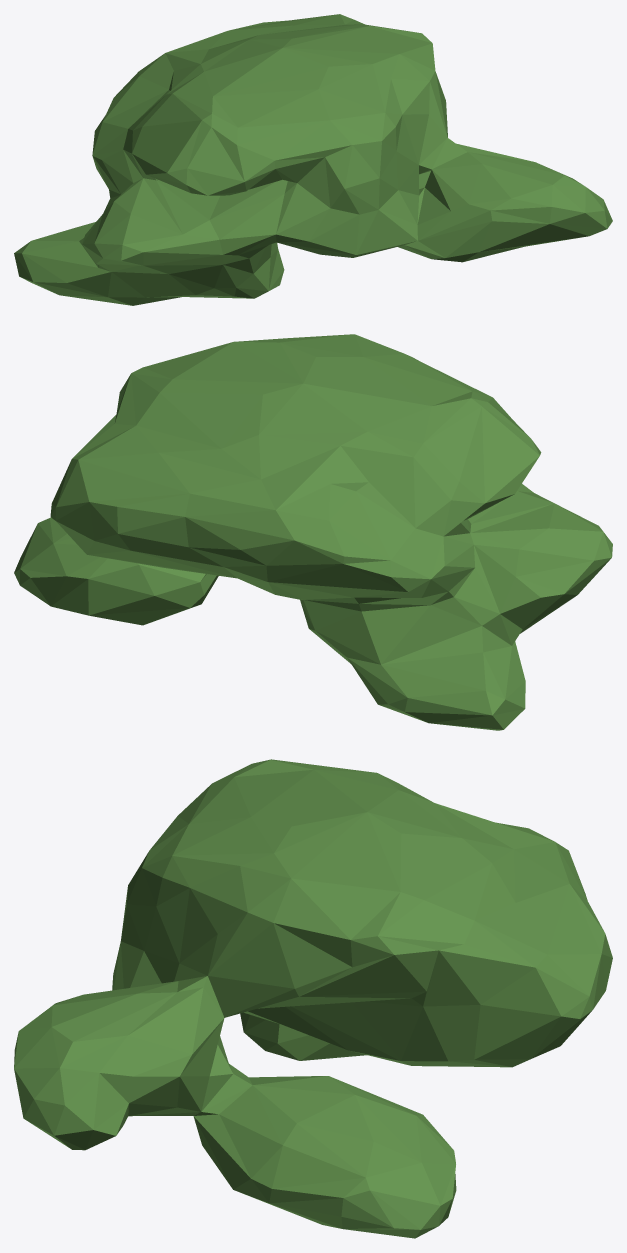
Rendered from TREE3_leaves.fbx.
3 renders of one model, top to bottom at view 1: azimuth 30°, elevation 25°; view 2: azimuth 150°, elevation 25°; view 3: azimuth 270°, elevation 25°, orthographic. The views are drawn at different scales.
Visible parts, largest first — view 1: polySurface813; view 2: polySurface813; view 3: polySurface813.
Boxes of the visible parts, left/top/right/bottom form: polySurface813: left=14, top=14, right=612, bottom=305; polySurface813: left=14, top=334, right=612, bottom=730; polySurface813: left=14, top=759, right=612, bottom=1238.
Size of the model in its own units: 19.63 by 9.37 by 16.84.
